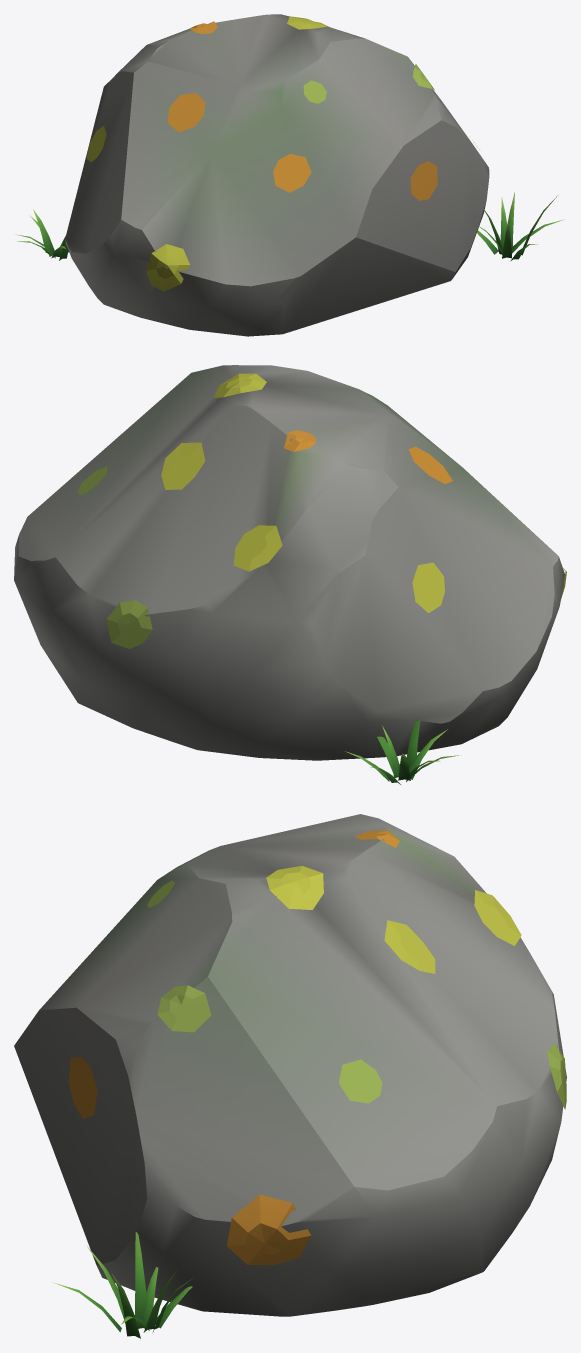
Rendered from mountain_rock_a.glb.
3 renders of one model, top to bottom at view 1: azimuth 30°, elevation 25°; view 2: azimuth 150°, elevation 25°; view 3: azimuth 270°, elevation 25°, orthographic. The views are drawn at different scales.
Parts seen in each view (by area): view 1: mountain_rock_a; view 2: mountain_rock_a; view 3: mountain_rock_a.
Part boxes in pixels (box(x1,y1,x2,y2)): mountain_rock_a: box(15, 14, 564, 336); mountain_rock_a: box(14, 365, 566, 784); mountain_rock_a: box(14, 814, 566, 1338).
Size of the model in its own units: 1.72 by 0.88 by 1.28.
